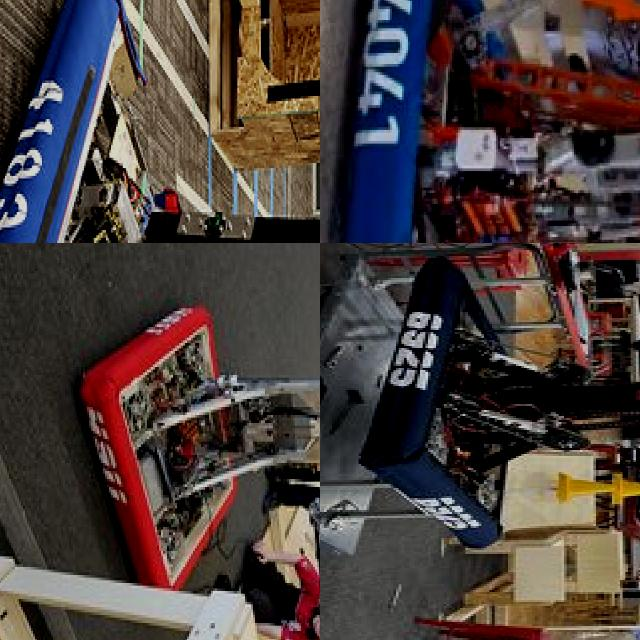FRC-Robots: (363, 243, 640, 572), (79, 283, 320, 640), (0, 0, 320, 243), (333, 0, 640, 243)
